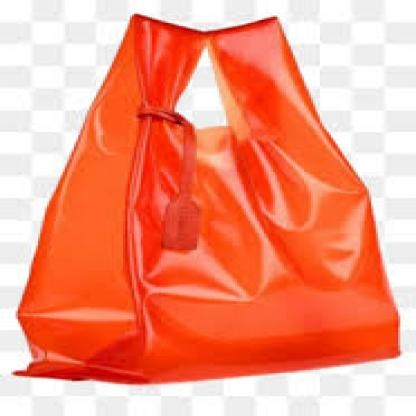trash: (15, 15, 399, 383)
